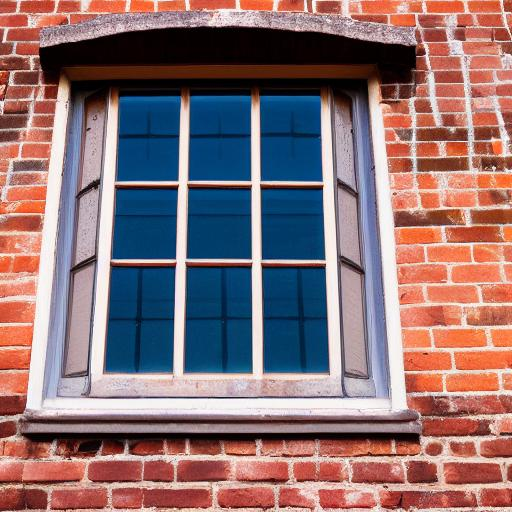Window: (19, 9, 419, 439)
